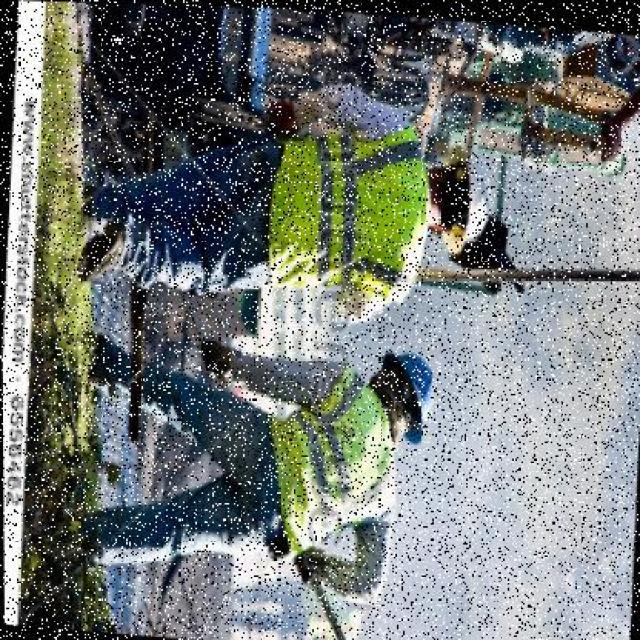helmet: (436, 131, 492, 259), (373, 339, 438, 445)
vest: (264, 120, 438, 288), (270, 388, 400, 536)
